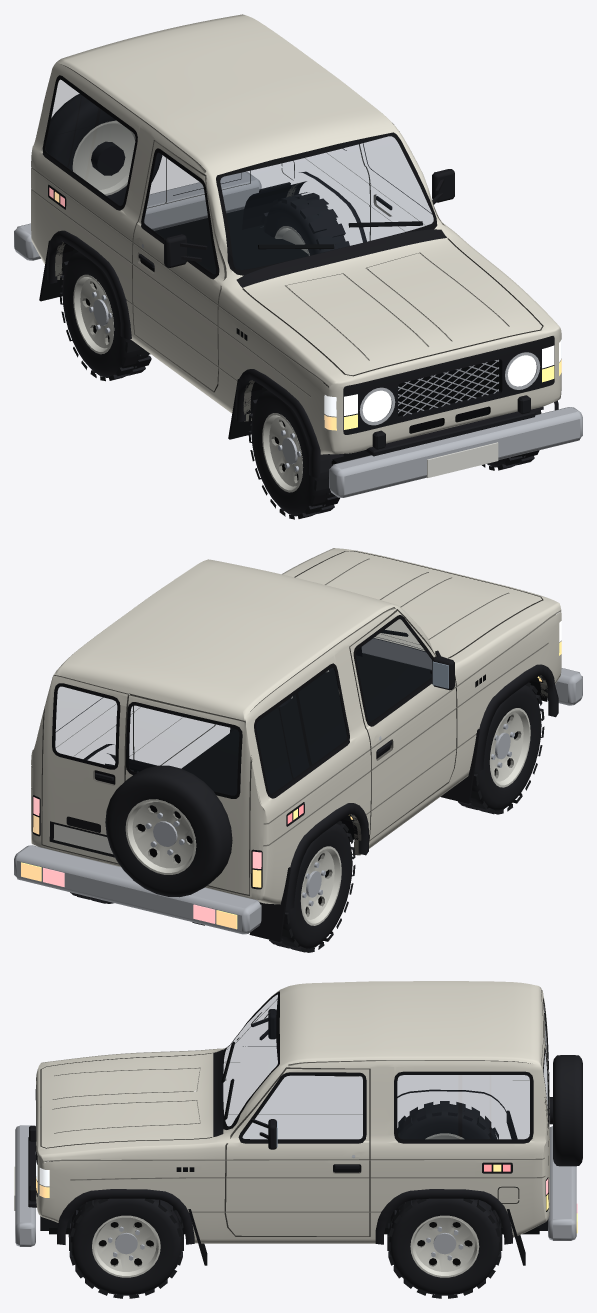
Rendered from car_offroad_white.glb.
3 views of the same model, one above another, from view 1: azimuth 30°, elevation 25°; view 2: azimuth 150°, elevation 25°; view 3: azimuth 270°, elevation 25° (orthographic). The views are drawn at different scales.
Visible parts, largest first — view 1: body, wheel_fl, wheel_rl, spare, wheel_rr; view 2: body, spare, wheel_rl, wheel_fl; view 3: body, wheel_rr, wheel_fr, spare, wheel_rl.
Part boxes in pixels (left/top/right/bottom): body: left=14, top=14, right=582, bottom=497; wheel_fl: left=248, top=387, right=343, bottom=519; wheel_rl: left=59, top=249, right=151, bottom=381; spare: left=45, top=93, right=162, bottom=205; wheel_rr: left=260, top=192, right=349, bottom=255; body: left=14, top=548, right=582, bottom=942; spare: left=105, top=765, right=232, bottom=897; wheel_rl: left=269, top=821, right=355, bottom=952; wheel_fl: left=458, top=682, right=544, bottom=814; body: left=14, top=981, right=577, bottom=1265; wheel_rr: left=387, top=1198, right=502, bottom=1298; wheel_fr: left=68, top=1198, right=183, bottom=1298; spare: left=553, top=1055, right=582, bottom=1166; wheel_rl: left=397, top=1101, right=498, bottom=1139.
Size of the model in its own units: 2.04 by 1.9 by 4.13.
